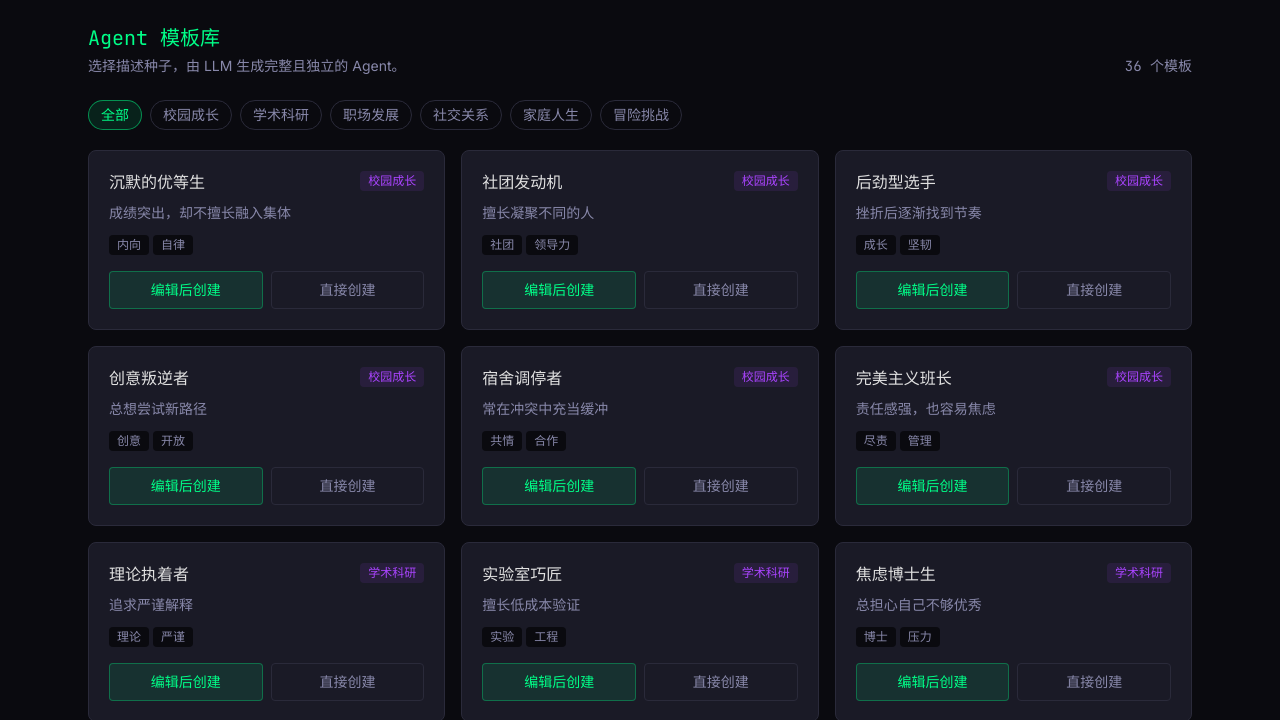
Step 39 TemplateBrowser › creates through the existing Agent endpoint hook
Click the button "直接创建" below "自律": point(348, 290) [271, 271, 424, 309]
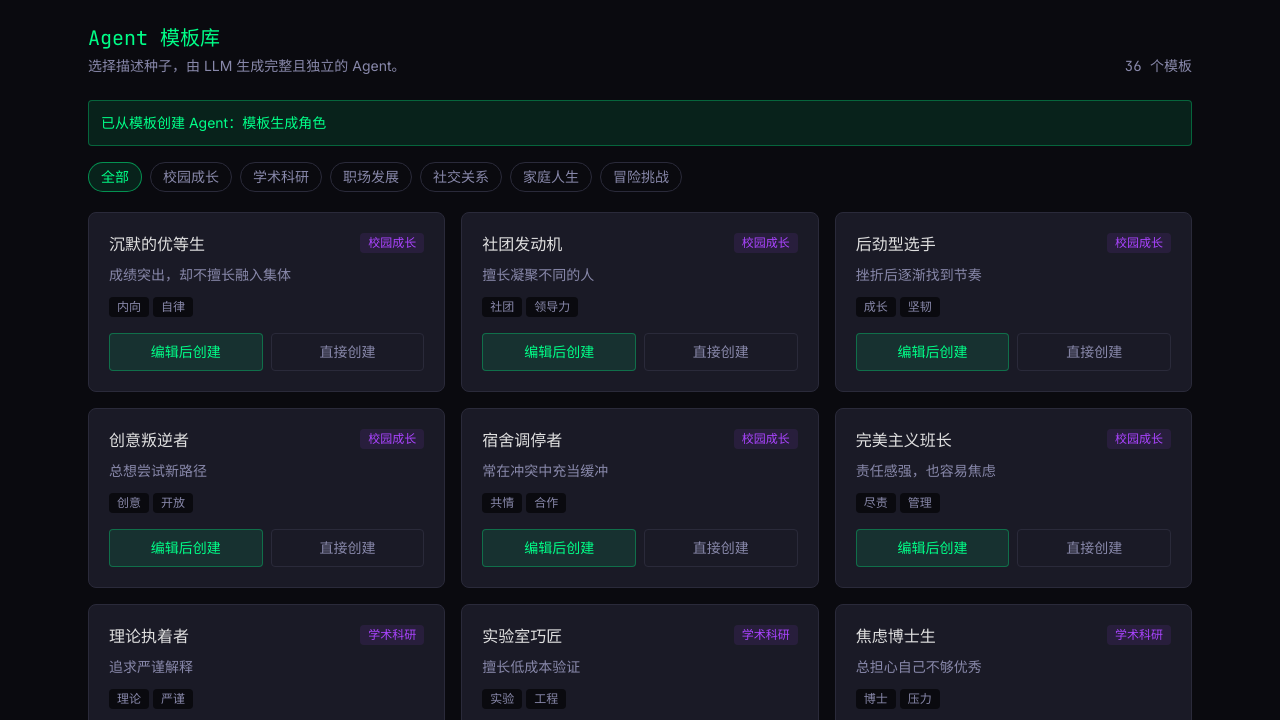
Result: the text "已从模板创建 Agent：模板生成角色" is shown at [88, 100, 1192, 146]
